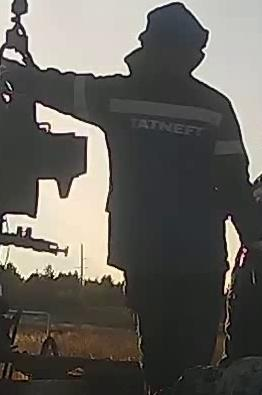vest: (76, 76, 240, 249)
